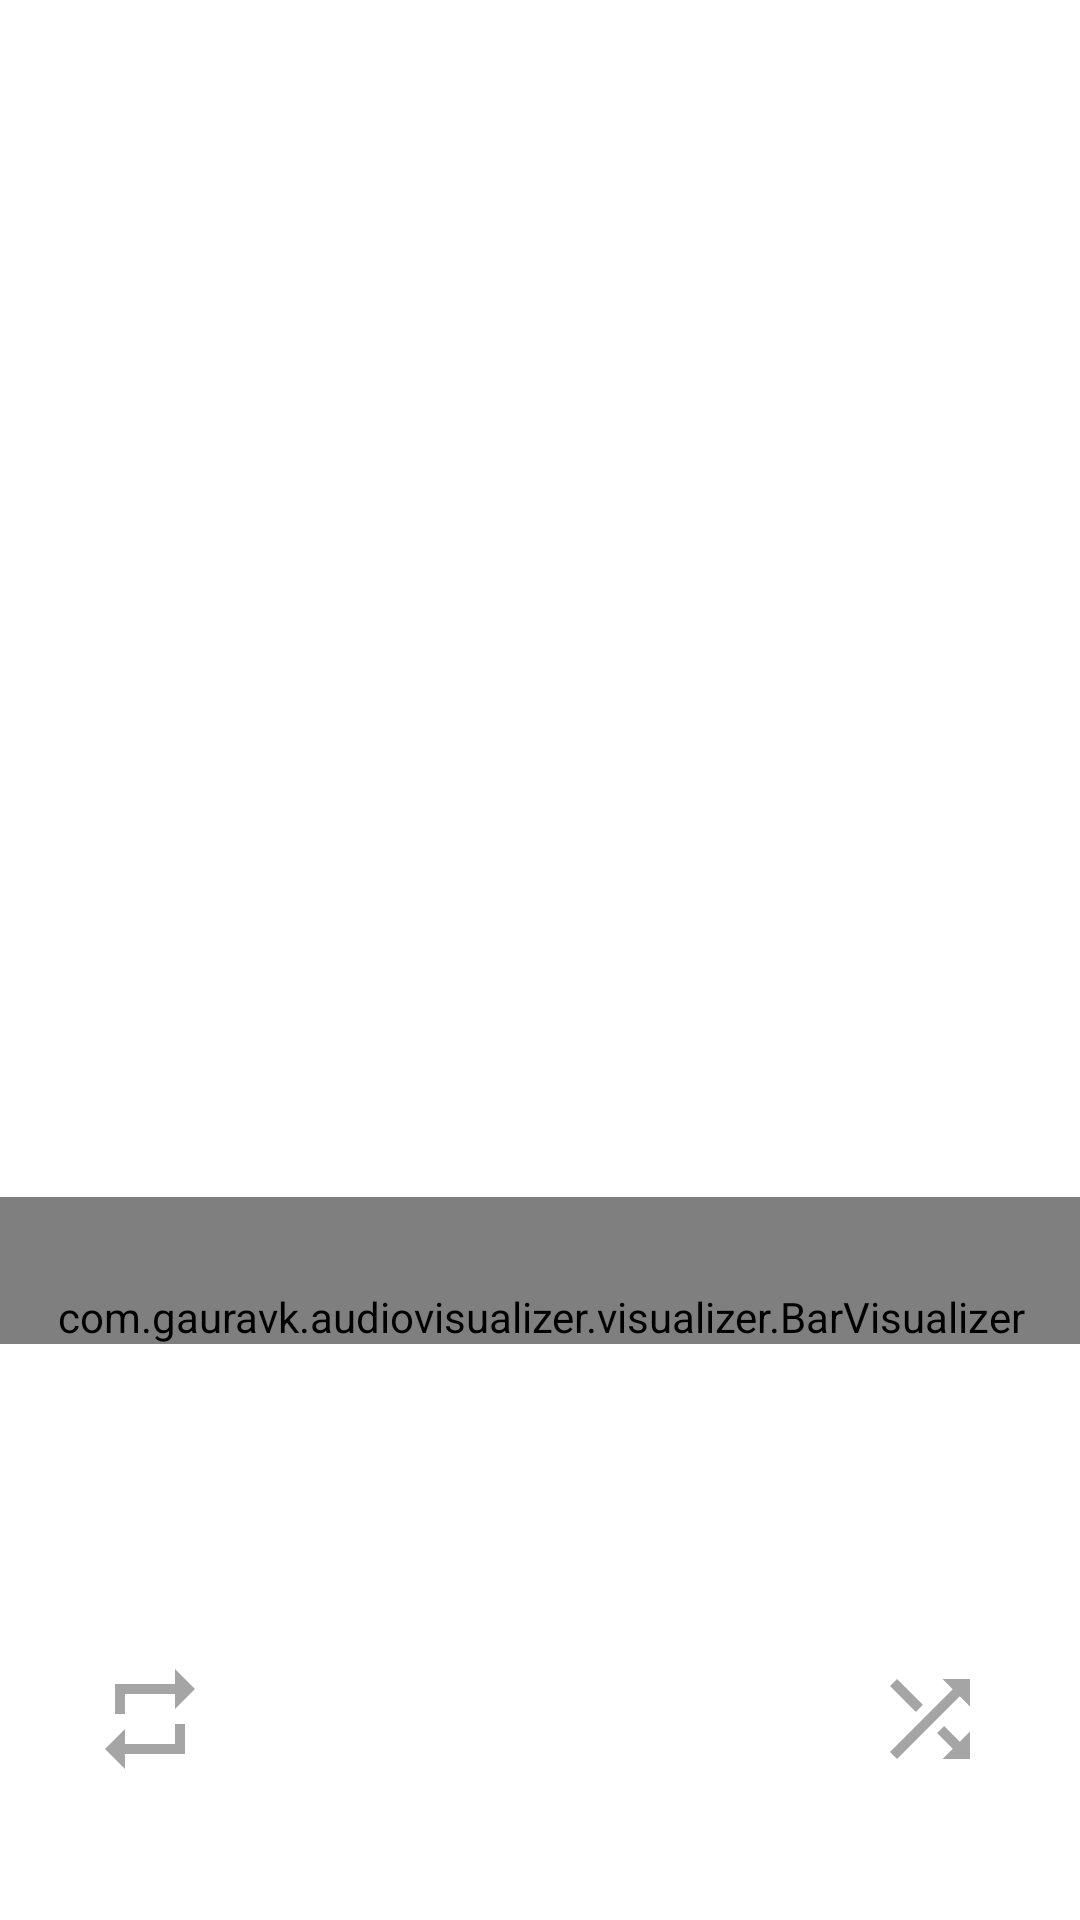

Where to tap for icons on this 1080px x 1920px app screen, as point (x, y):
repeat: point (150, 1719)
shuffle: point (930, 1719)
